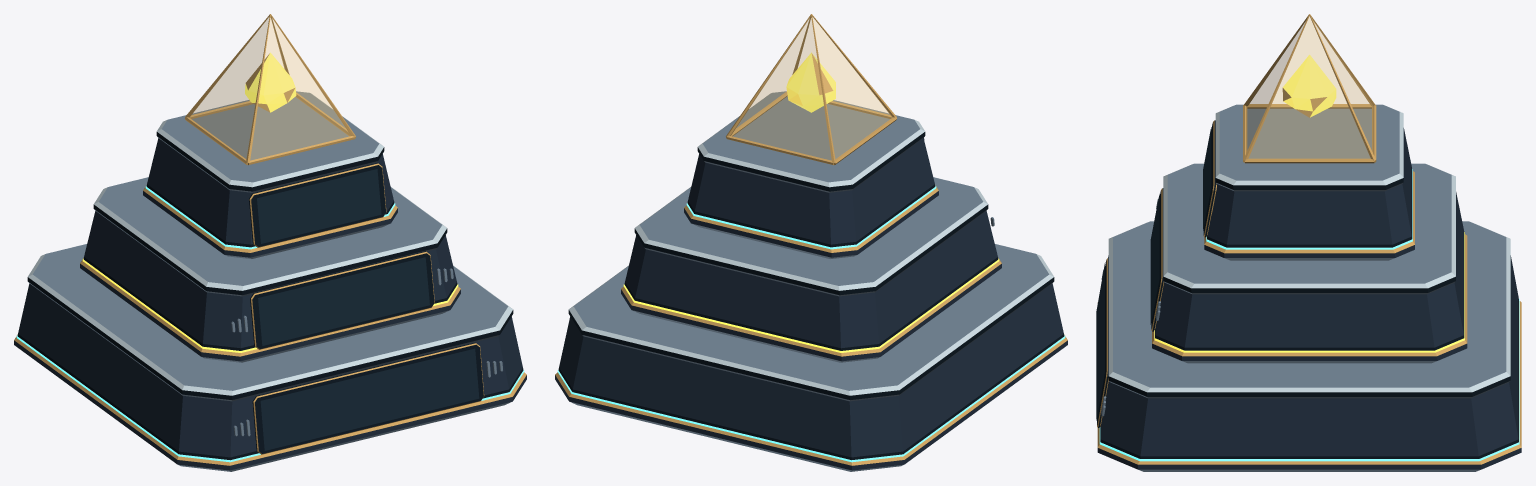
File: tier-pyramid.glb
3 views of the same model, side by side, from view 1: azimuth 30°, elevation 25°; view 2: azimuth 150°, elevation 25°; view 3: azimuth 270°, elevation 25° (orthographic). The views are drawn at different scales.
Visible parts, largest first — view 1: PyramidTier_1, PyramidTier_2, PyramidTier_3, ApexCrown, ScreenSurface_1, ScreenSurface_2, ScreenSurface_3, ApexCore, TierRim_1, TierRim_2; view 2: PyramidTier_1, PyramidTier_2, PyramidTier_3, ApexCrown, ApexCore, TierRim_1, TierRim_2, TierRim_3; view 3: PyramidTier_1, PyramidTier_2, PyramidTier_3, ApexCrown, ApexCore, TierRim_1, TierRim_2, ScreenSurface_1, ScreenSurface_2, TierRim_3, ScreenSurface_3.
Boxes of the visible parts, x1,y1,x2,y2 form: PyramidTier_1: (14,244,526,471); PyramidTier_2: (80,177,460,362); PyramidTier_3: (143,91,397,258); ApexCrown: (185,14,355,165); ScreenSurface_1: (260,348,479,450); ScreenSurface_2: (258,257,429,345); ScreenSurface_3: (257,169,381,243); ApexCore: (245,52,296,112); TierRim_1: (16,335,524,462); TierRim_2: (82,258,458,352); PyramidTier_1: (555,244,1067,471); PyramidTier_2: (621,177,1001,362); PyramidTier_3: (684,91,938,258); ApexCrown: (726,14,896,165); ApexCore: (786,52,835,112); TierRim_1: (557,335,1065,462); TierRim_2: (623,258,999,352); TierRim_3: (686,185,936,249); PyramidTier_1: (1097,221,1521,471); PyramidTier_2: (1151,163,1467,363); PyramidTier_3: (1203,104,1414,260); ApexCrown: (1243,14,1376,163); ApexCore: (1282,55,1336,117); TierRim_1: (1099,298,1519,461); TierRim_2: (1154,232,1464,352); ScreenSurface_1: (1096,263,1104,420); ScreenSurface_2: (1150,194,1159,324); TierRim_3: (1206,169,1412,249); ScreenSurface_3: (1203,127,1211,230).
Size of the model in its own units: 3.42 by 3.3 by 3.43.
